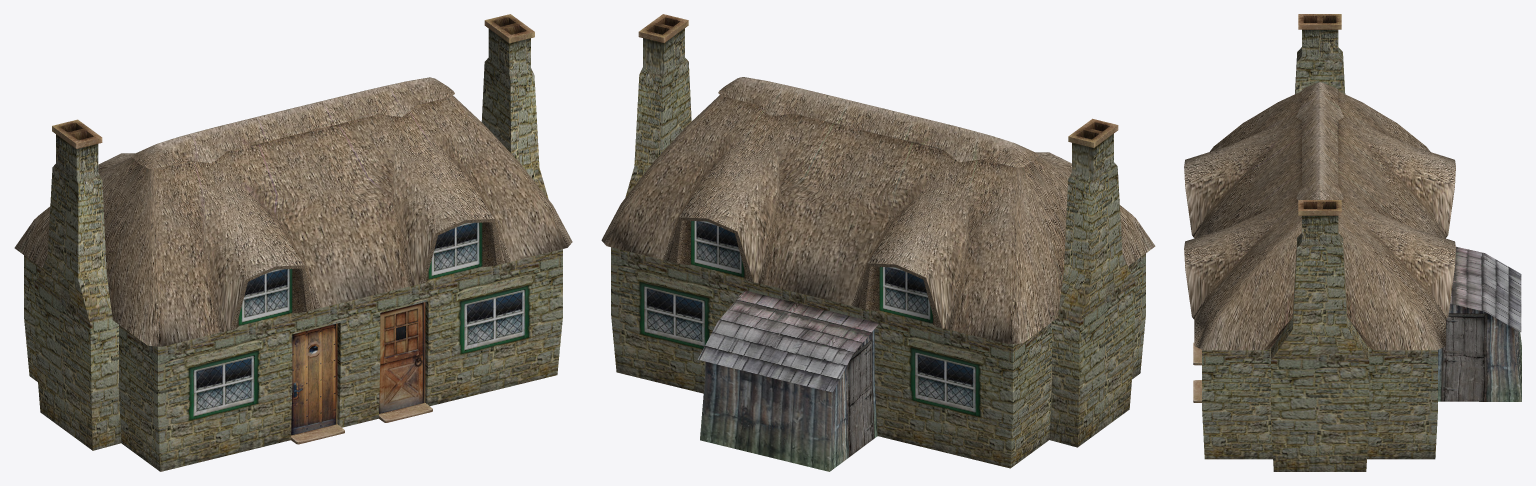
File: old_cottage.dae
3 views of the same model, side by side, from view 1: azimuth 30°, elevation 25°; view 2: azimuth 150°, elevation 25°; view 3: azimuth 270°, elevation 25° (orthographic). The views are drawn at different scales.
Visible parts, largest first — view 1: Model; view 2: Model; view 3: Model.
Boxes of the visible parts, <box> form: Model: <box>14,14,572,471</box>; Model: <box>601,14,1155,471</box>; Model: <box>1184,14,1521,471</box>.
Bounding box in the file's own units: 8.14 × 5.86 × 5.01.
3 materials, 1 textured.
